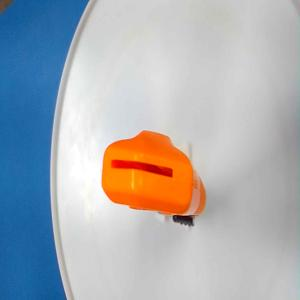estilete: (101, 130, 207, 227)
